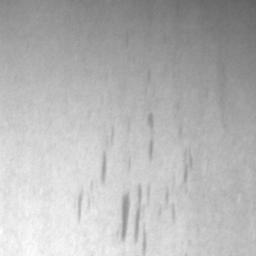Inclusion: (134, 188, 143, 241), (123, 196, 132, 241), (102, 154, 108, 178)
